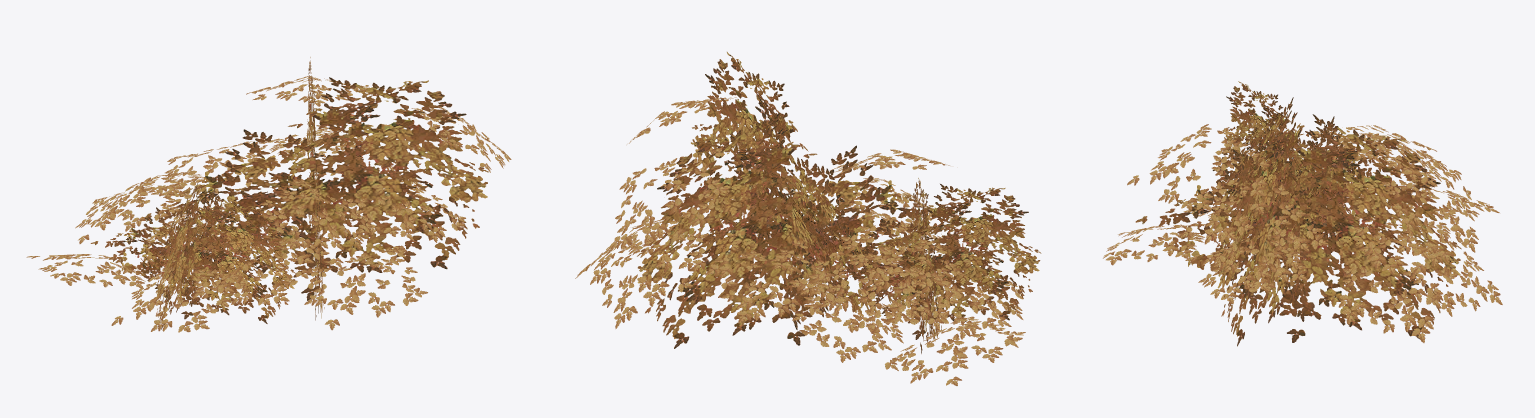
The model's file is decd_saplingclump_lg_a1_l2.fbx.
3 views of the same model, side by side, from view 1: azimuth 30°, elevation 25°; view 2: azimuth 150°, elevation 25°; view 3: azimuth 270°, elevation 25° (orthographic). The views are drawn at different scales.
Parts seen in each view (by area): view 1: mesh_node; view 2: mesh_node; view 3: mesh_node.
Boxes of the visible parts, x1,y1,x2,y2 form: mesh_node: [26, 57, 511, 332]; mesh_node: [575, 52, 1041, 385]; mesh_node: [1103, 81, 1502, 346].
Bounding box in the file's own units: 5.88 × 3.19 × 4.79.
